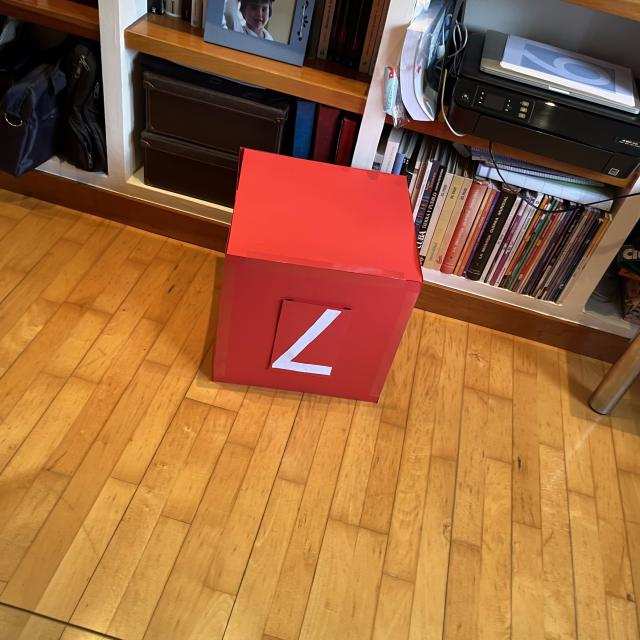box: (208, 143, 426, 405)
